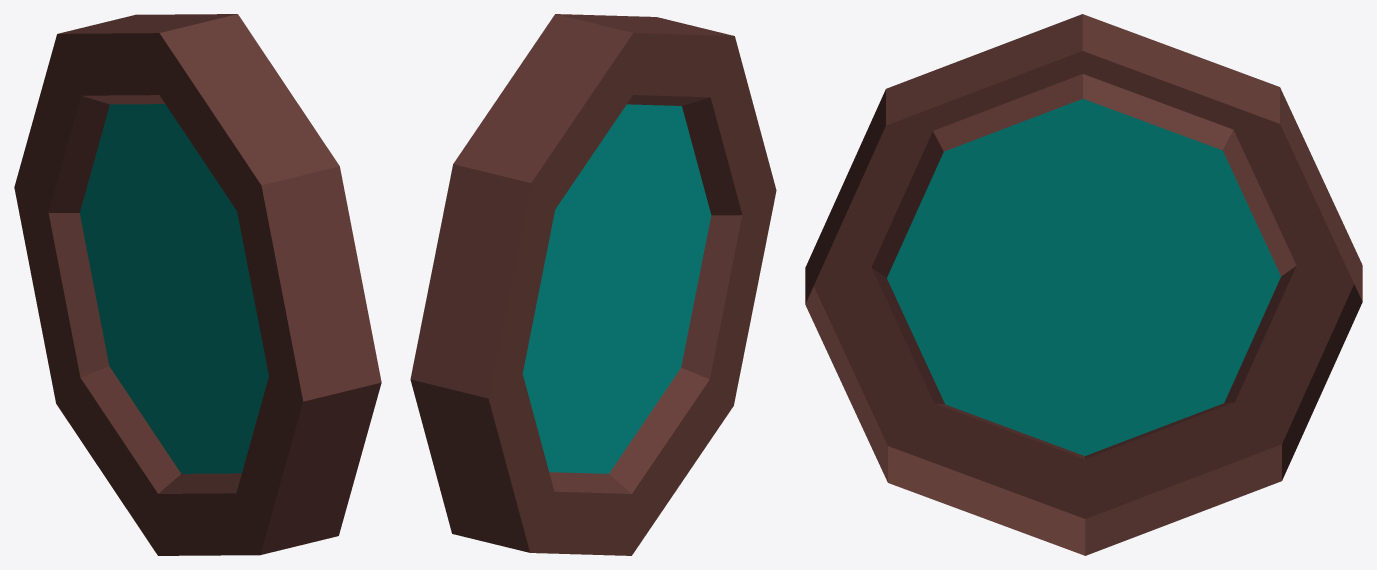
Rendered from (old)GEO_window.fbx.
3 views of the same model, side by side, from view 1: azimuth 30°, elevation 25°; view 2: azimuth 150°, elevation 25°; view 3: azimuth 270°, elevation 25° (orthographic). The views are drawn at different scales.
Parts seen in each view (by area): view 1: GEO_window; view 2: GEO_window; view 3: GEO_window.
Boxes of the visible parts, <box> form: GEO_window: <box>14,14,381,555</box>; GEO_window: <box>410,14,776,555</box>; GEO_window: <box>805,14,1362,555</box>.
Size of the model in its own units: 16.37 by 104 by 104.
